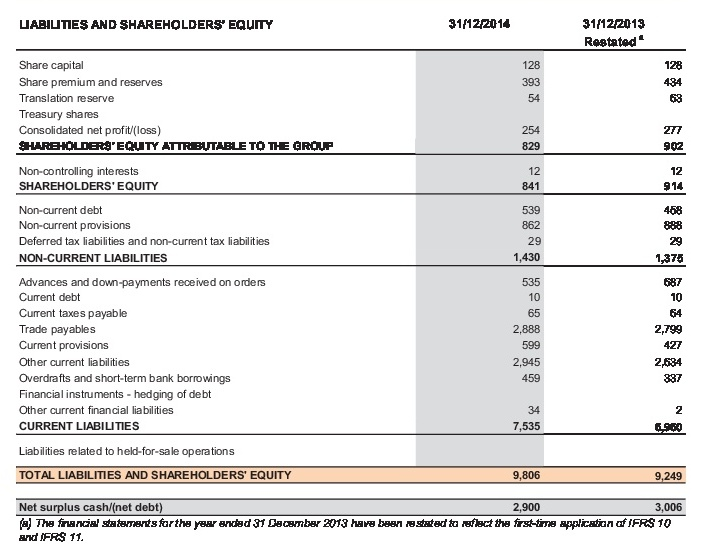table: (0, 0, 705, 551)
